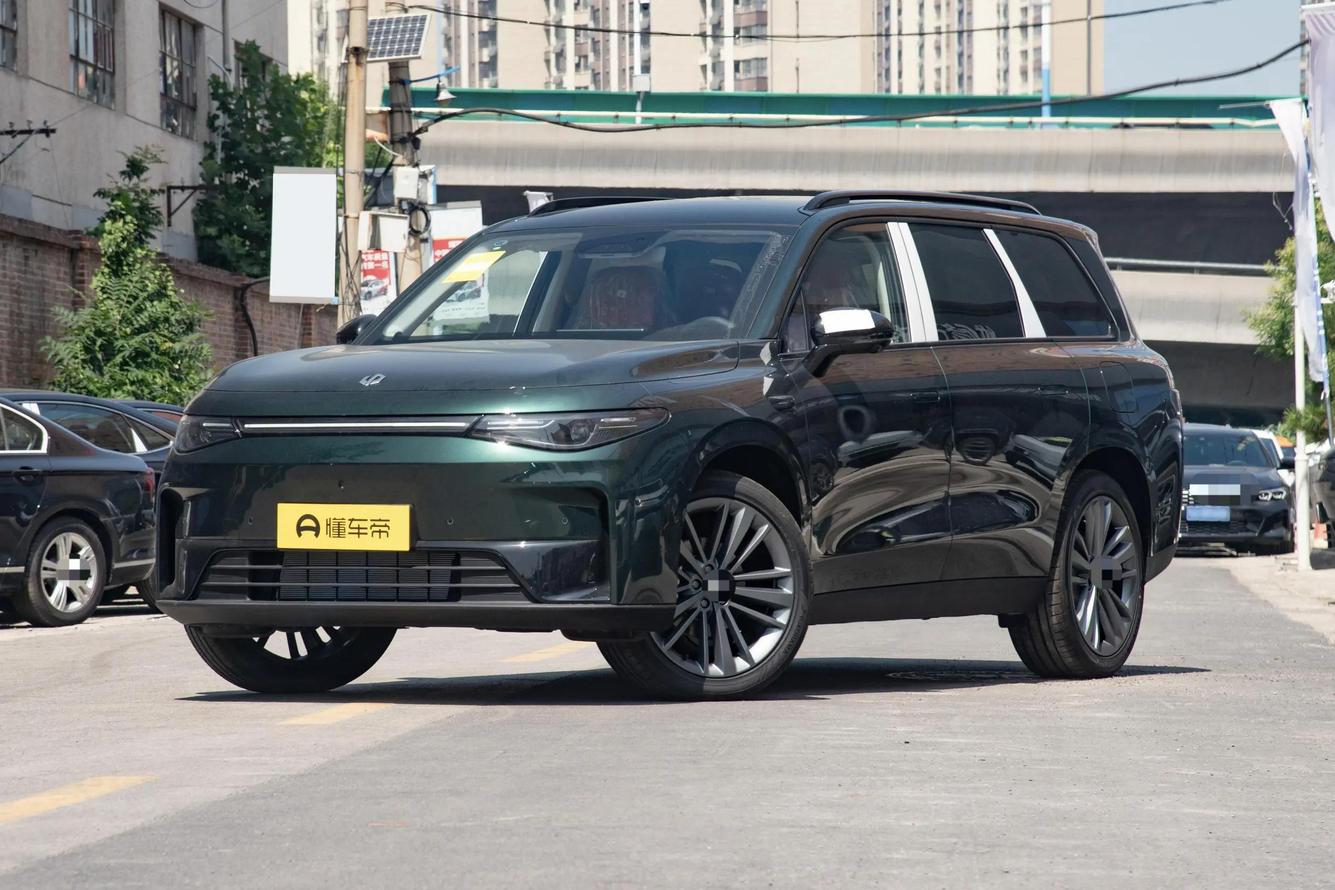LEAPMOTOR: (359, 373, 386, 387)
